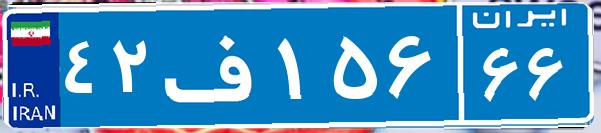1: (273, 28, 330, 110)
2: (110, 28, 158, 105)
4: (57, 26, 110, 107)
5: (330, 28, 385, 110)
6: (385, 28, 445, 110), (475, 38, 525, 113), (525, 38, 570, 115)
ف: (158, 15, 273, 115)
